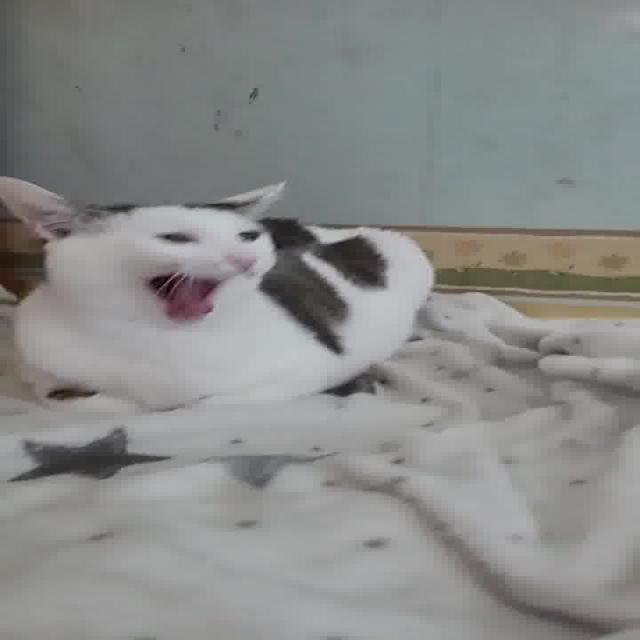cat: (0, 172, 456, 416)
